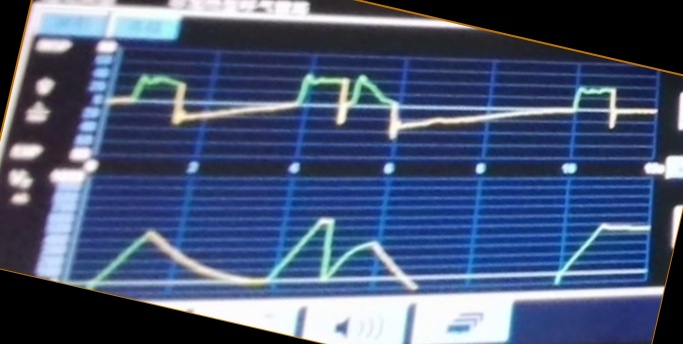Double_Triggering Flow: (119, 70, 636, 159)
Double_Triggering Volume: (118, 212, 638, 287)
